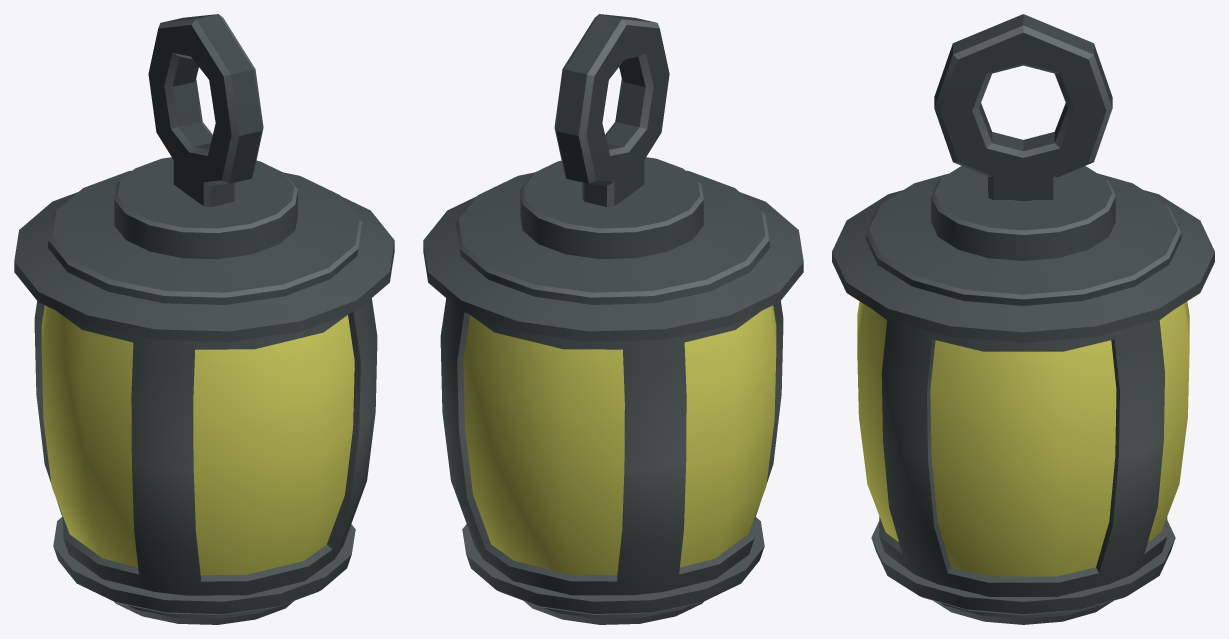
File: Lamp-1-2.fbx
The picture shows the model from 3 angles, left to right: view 1: azimuth 30°, elevation 25°; view 2: azimuth 150°, elevation 25°; view 3: azimuth 270°, elevation 25°; orthographic projection.
Visible parts, largest first — view 1: Lamp-1-2; view 2: Lamp-1-2; view 3: Lamp-1-2.
Part boxes in pixels (x1,y1,x2,y2): Lamp-1-2: (14,14,394,624); Lamp-1-2: (423,14,803,624); Lamp-1-2: (832,14,1214,624).
Bounding box in the file's own units: 56.5 × 95.82 × 56.5.
